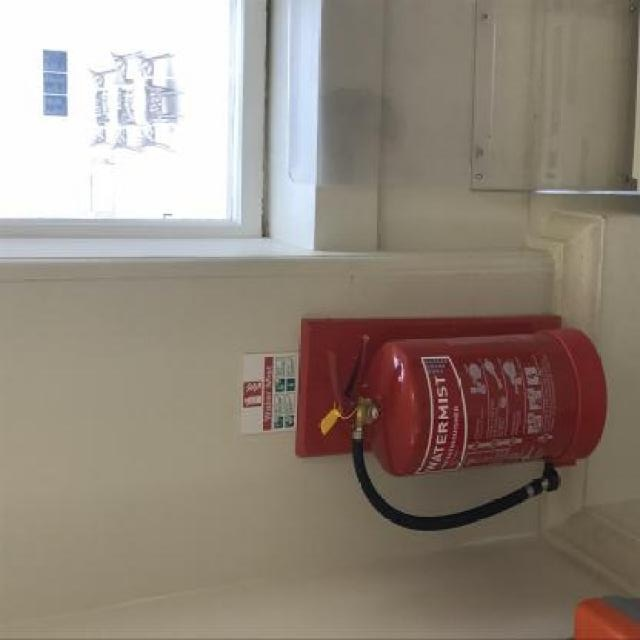fire extinguisher: (318, 322, 610, 530)
